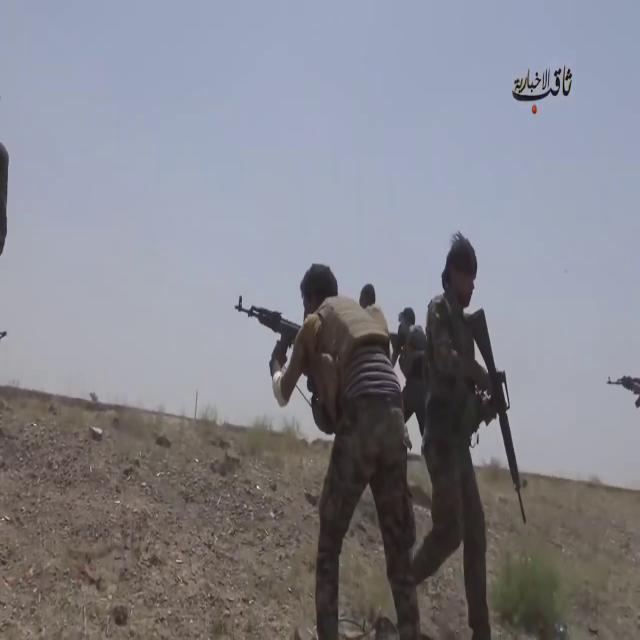long weapon: (468, 310, 540, 534), (231, 290, 300, 364)
